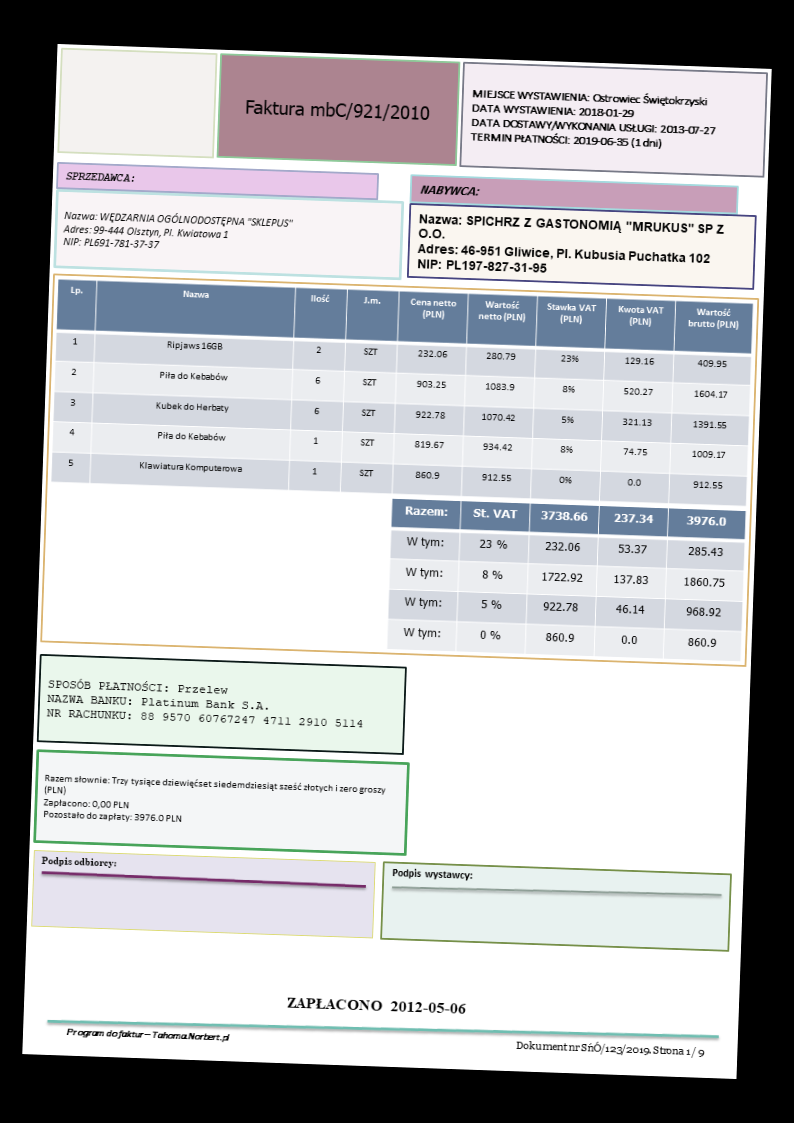Table: (48, 277, 755, 509), (386, 498, 749, 662)
TextBox: (412, 208, 729, 285), (39, 770, 389, 834), (44, 673, 367, 735), (466, 84, 720, 155), (59, 204, 298, 259), (235, 89, 433, 128), (511, 1036, 708, 1064), (283, 993, 472, 1020), (62, 1020, 236, 1045), (388, 864, 477, 885), (38, 850, 119, 873), (416, 177, 481, 202), (60, 166, 135, 186)
